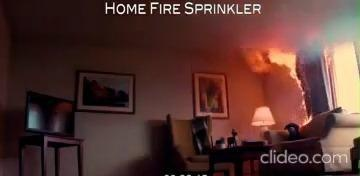fire: (243, 32, 320, 113)
